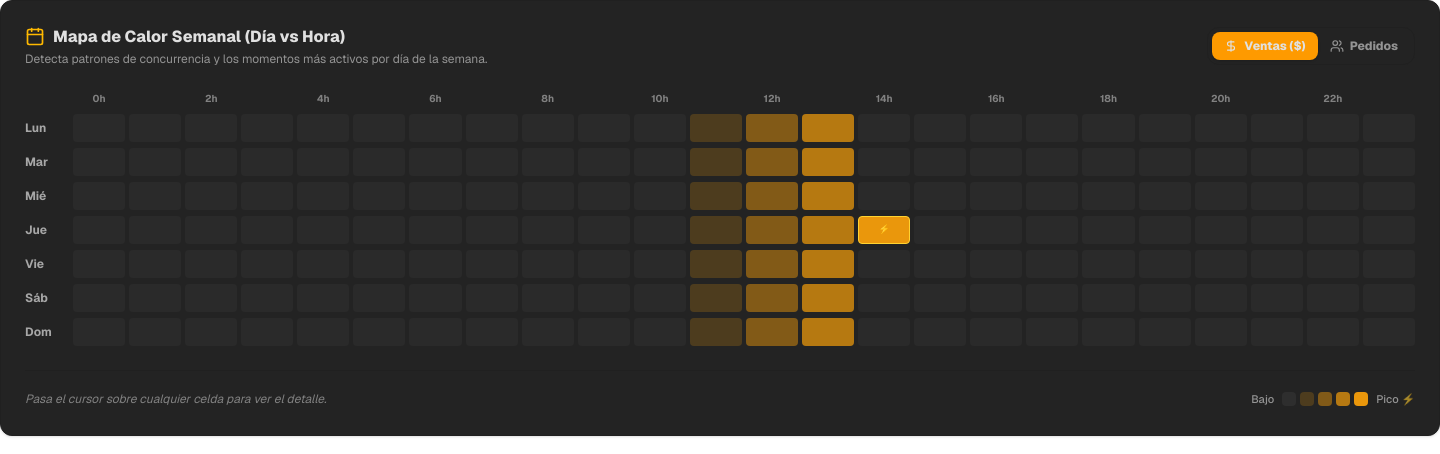
HourlySalesHeatmap Component › should display hover details when mouse enters a cell and reset on mouse leave
The width and height of the screenshot is (1440, 454).
Expected: the text "Pasa el cursor sobre cualquier celda para ver el detalle." is shown, [25,391,326,407]
Hover over the element with test id "heatmap-cell-3-14" at (884, 230), box [858,216,910,244]
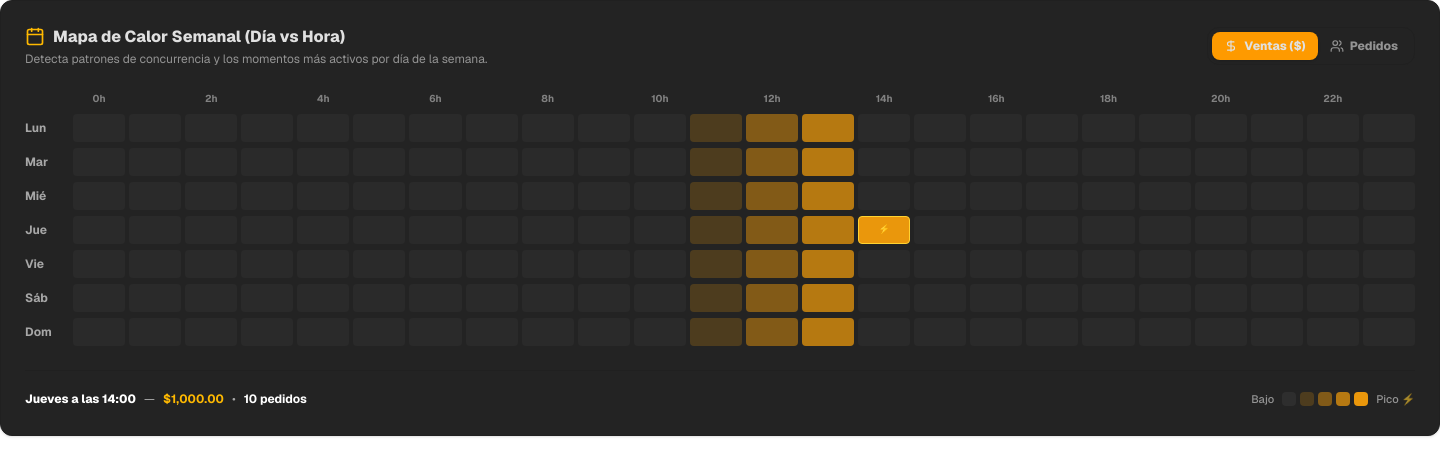
Result: the text "Jueves a las 14:00" is shown at [25,391,136,407]
Result: the text "$1,000.00" is shown at [163,391,224,407]
Result: the text "10 pedidos" is shown at [244,391,307,407]
Move the pointer off the element with test id "heatmap-cell-3-14", box [858,216,910,244]
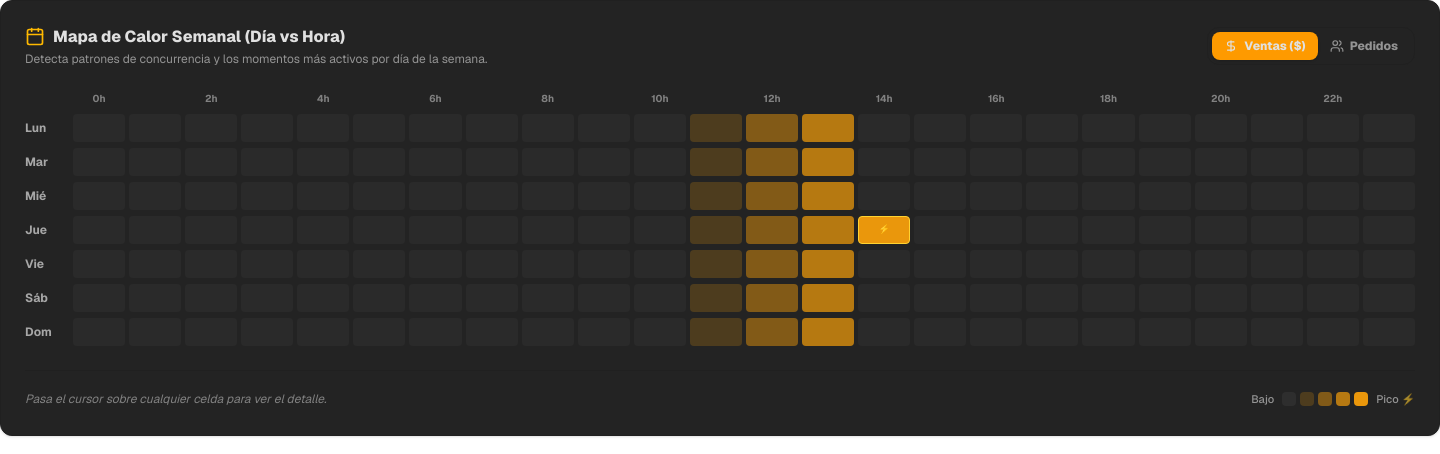
Result: the text "Pasa el cursor sobre cualquier celda para ver el detalle." is shown at [25,391,326,407]
